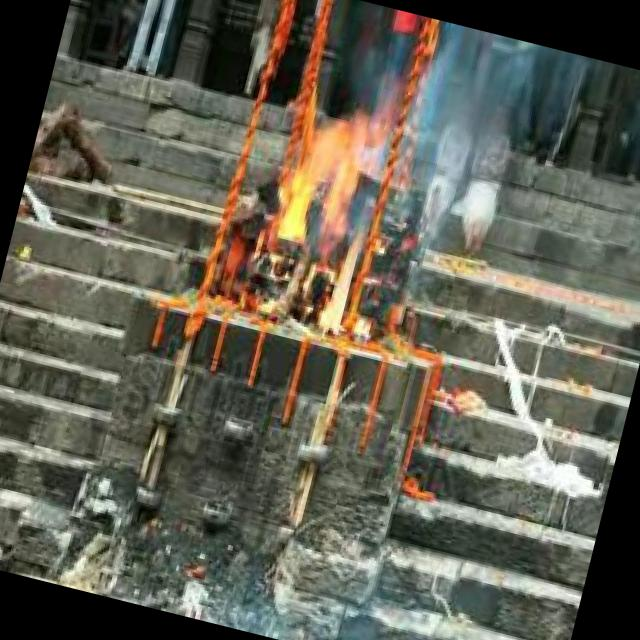Fire: (250, 85, 404, 343)
